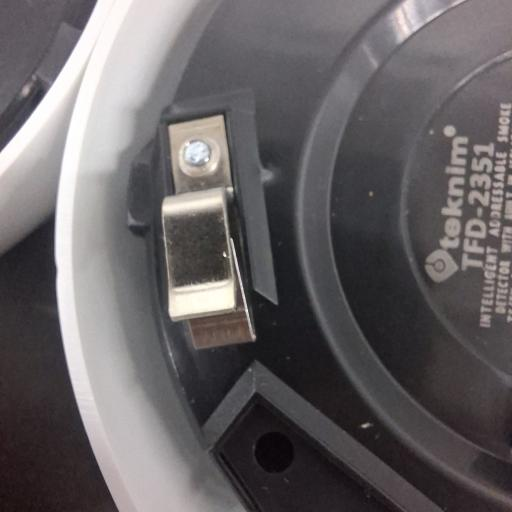yayli: (157, 110, 257, 346)
